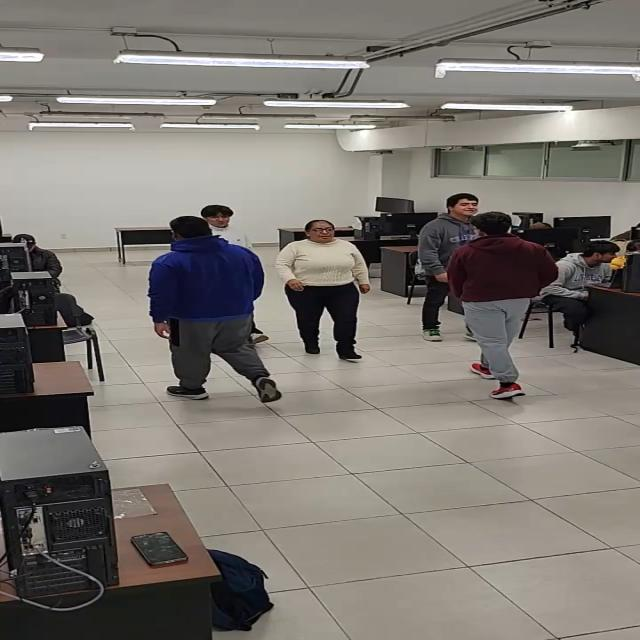Persona: (140, 215, 276, 409), (437, 209, 560, 404), (276, 216, 375, 366), (418, 189, 483, 339)
